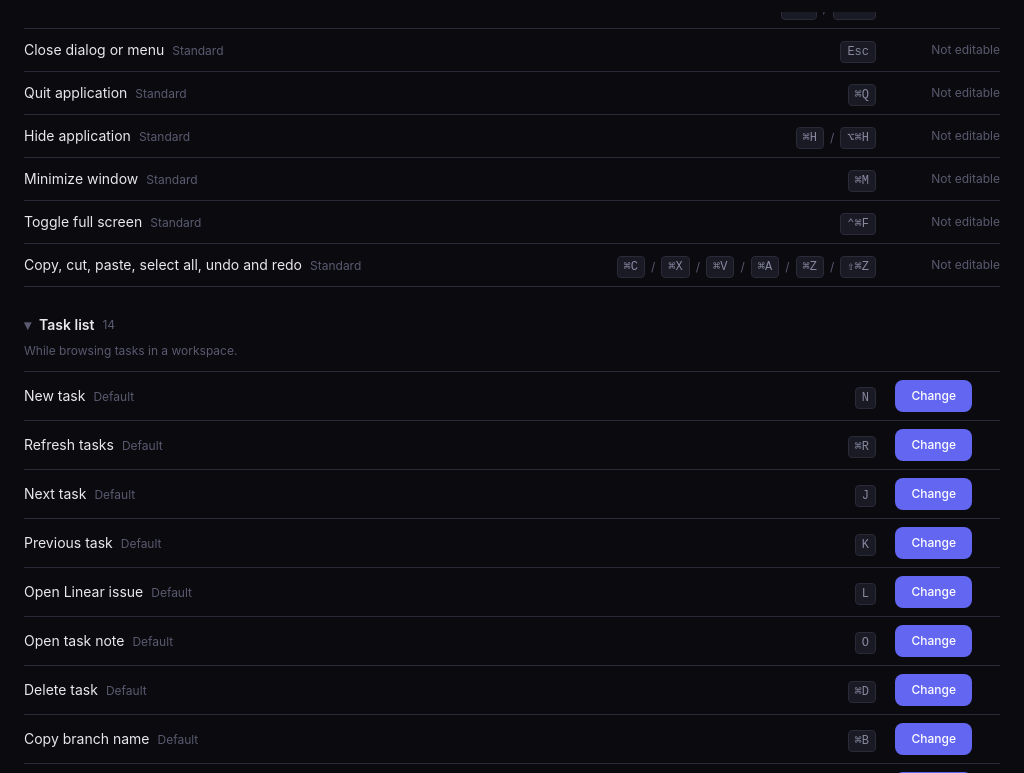
Test: collapses sections independently and expands matching sections during search
This screenshot has width=1024, height=773.
(page scrolled)
Click the button "▾ Task list 14" at (67, 324), box [24,307,1000,343]
(page scrolled)
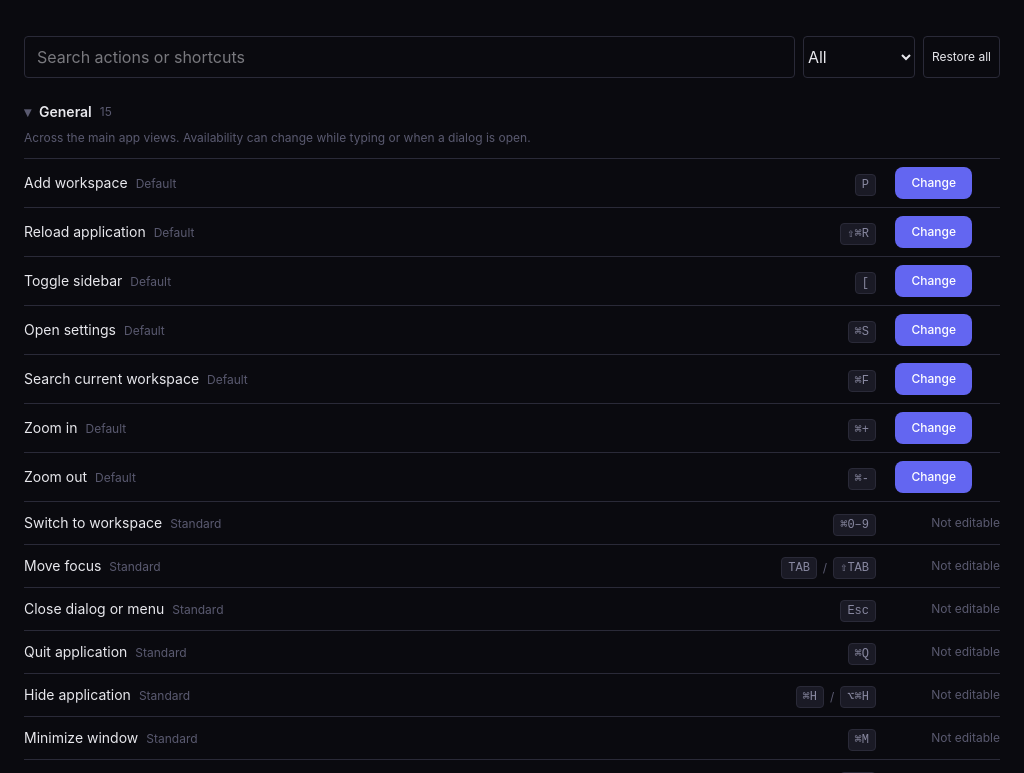
Type "new task" into the field named "Search shortcuts" at (409, 57), box [24,36,795,78]
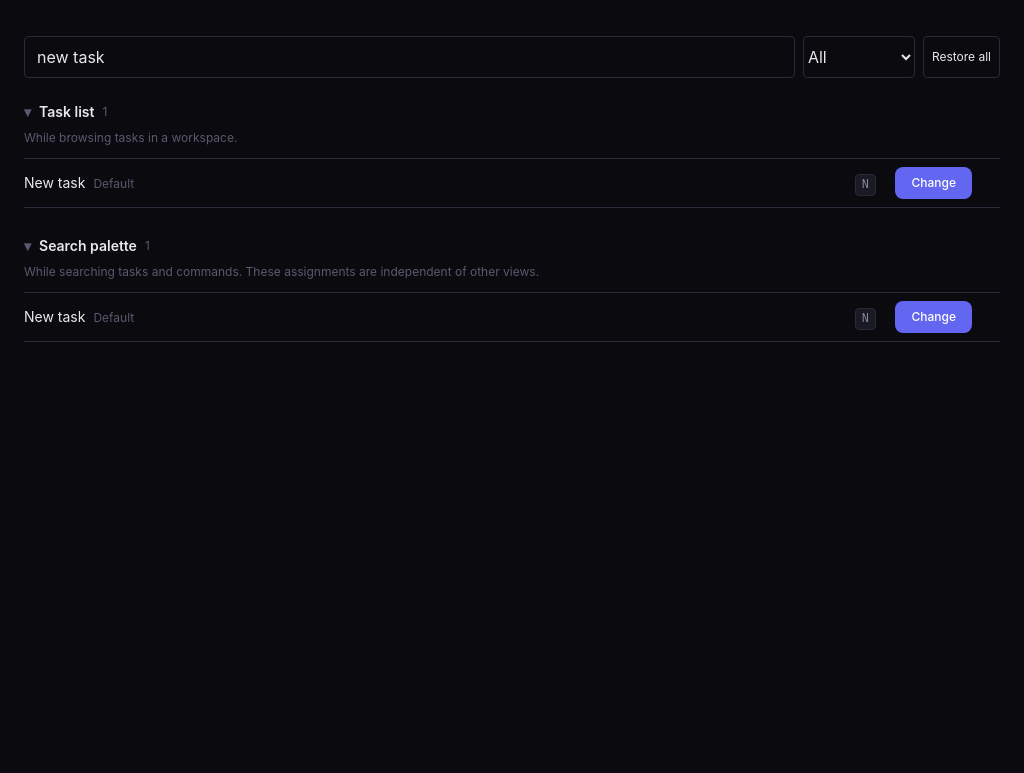
Expected: the button with aria-label "Change New task (Task list)" is shown, [896,167,972,199]
Clear the field named "Search shortcuts" at (409, 57), box [24,36,795,78]
(page scrolled)
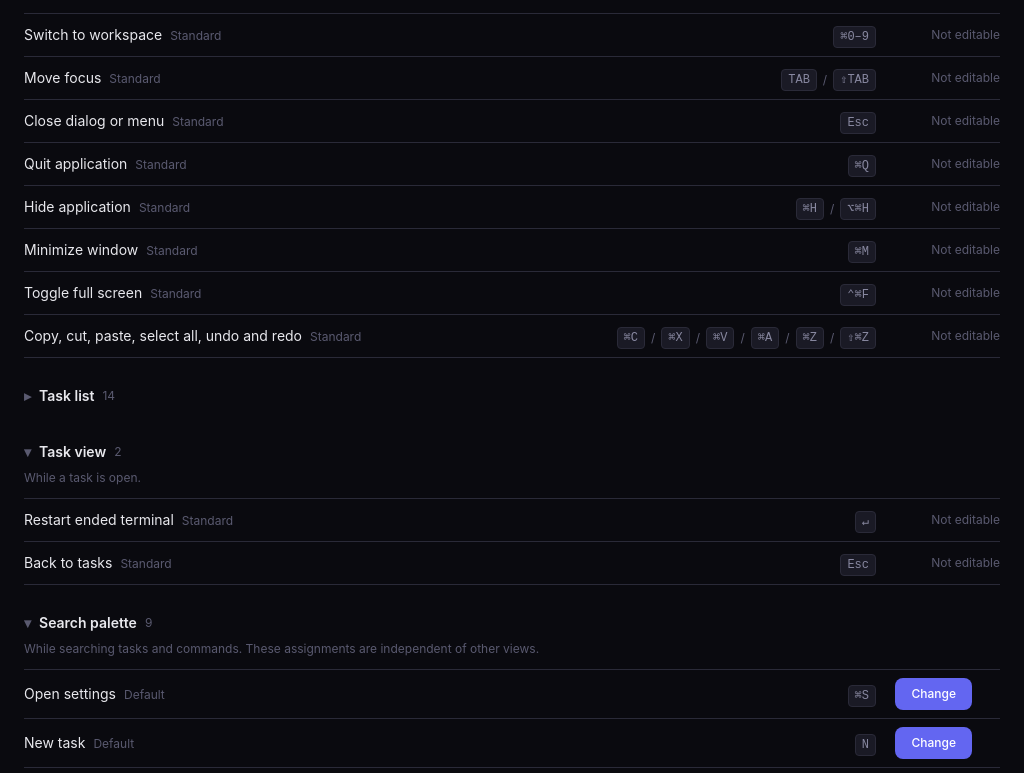
Expected: the button "▸ Task list 14" is collapsed, [24,378,1000,414]
